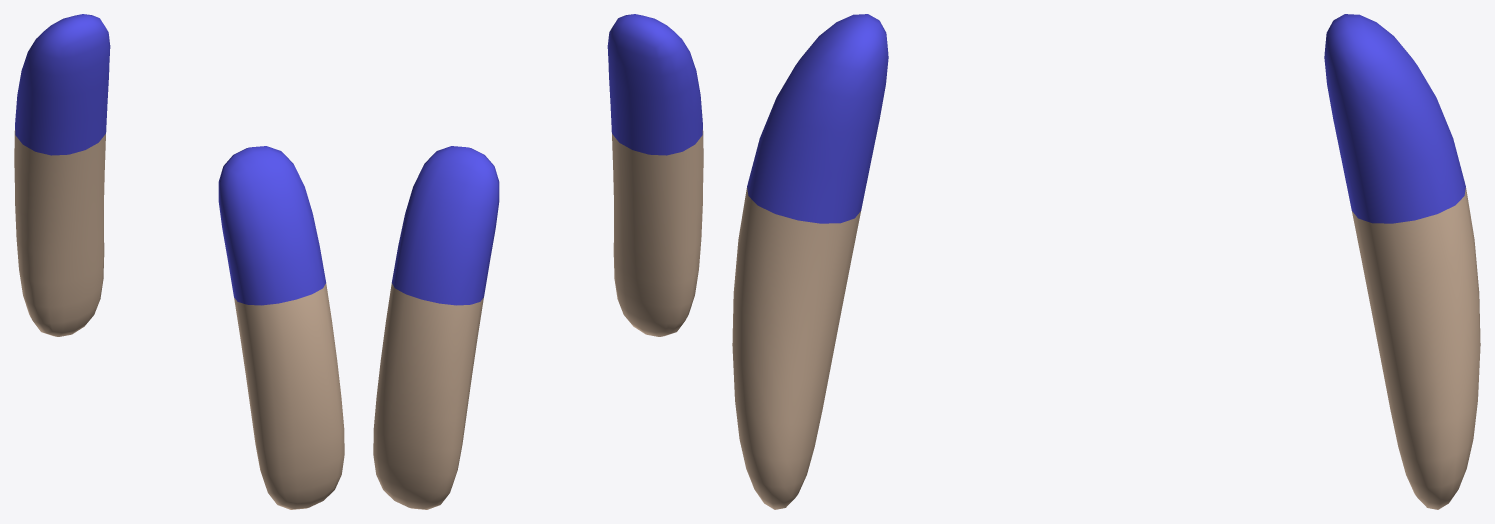
File: worker_hand.fbx
3 renders of one model, left to right at view 1: azimuth 30°, elevation 25°; view 2: azimuth 150°, elevation 25°; view 3: azimuth 270°, elevation 25°, orthographic. The views are drawn at different scales.
Parts seen in each view (by area): view 1: Cube.002; view 2: Cube.002; view 3: Cube.002.
Boxes of the visible parts, x1=… form: Cube.002: x1=14, y1=14, x2=344, y2=509; Cube.002: x1=373, y1=14, x2=703, y2=509; Cube.002: x1=732, y1=14, x2=1480, y2=509.
Bounding box in the file's own units: 58.03 × 201 × 288.
